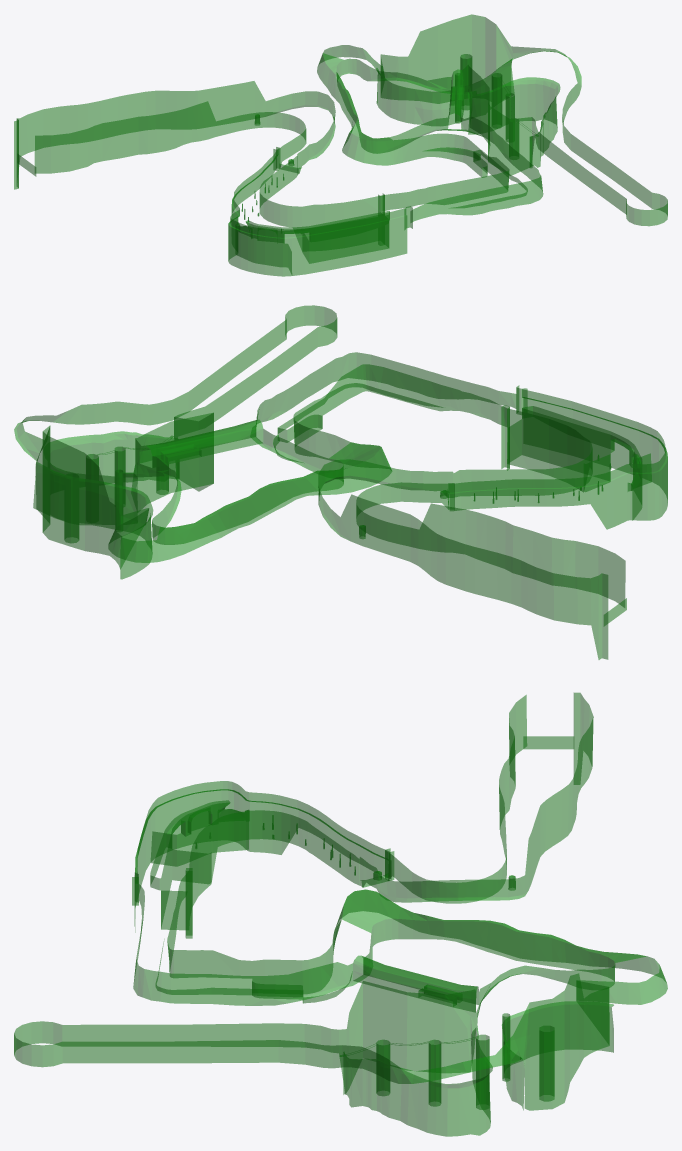
File: wall.obj
3 views of the same model, one above another, from view 1: azimuth 30°, elevation 25°; view 2: azimuth 150°, elevation 25°; view 3: azimuth 270°, elevation 25° (orthographic). The views are drawn at different scales.
Size of the model in its own units: 608 by 107 by 494.
